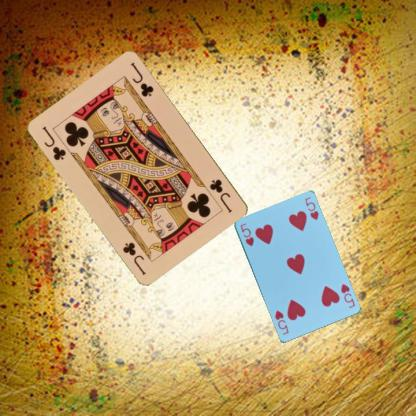5h: (338, 281, 356, 309), (237, 221, 255, 247)
Jc: (40, 124, 68, 162), (207, 176, 234, 214)
